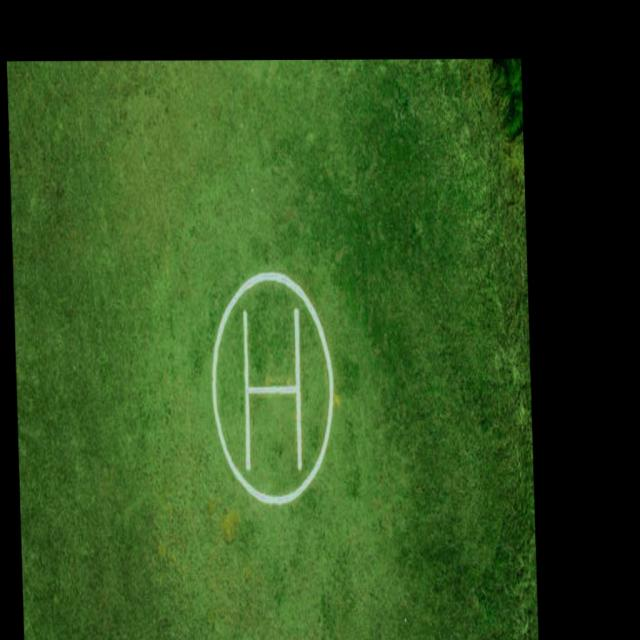helipad: (206, 265, 338, 508)
